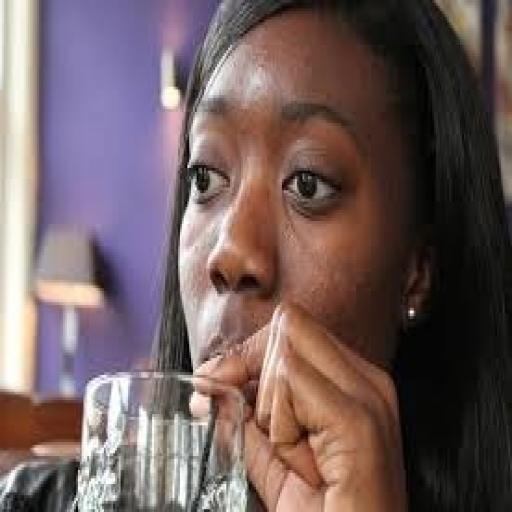drinking: (72, 367, 248, 509)
